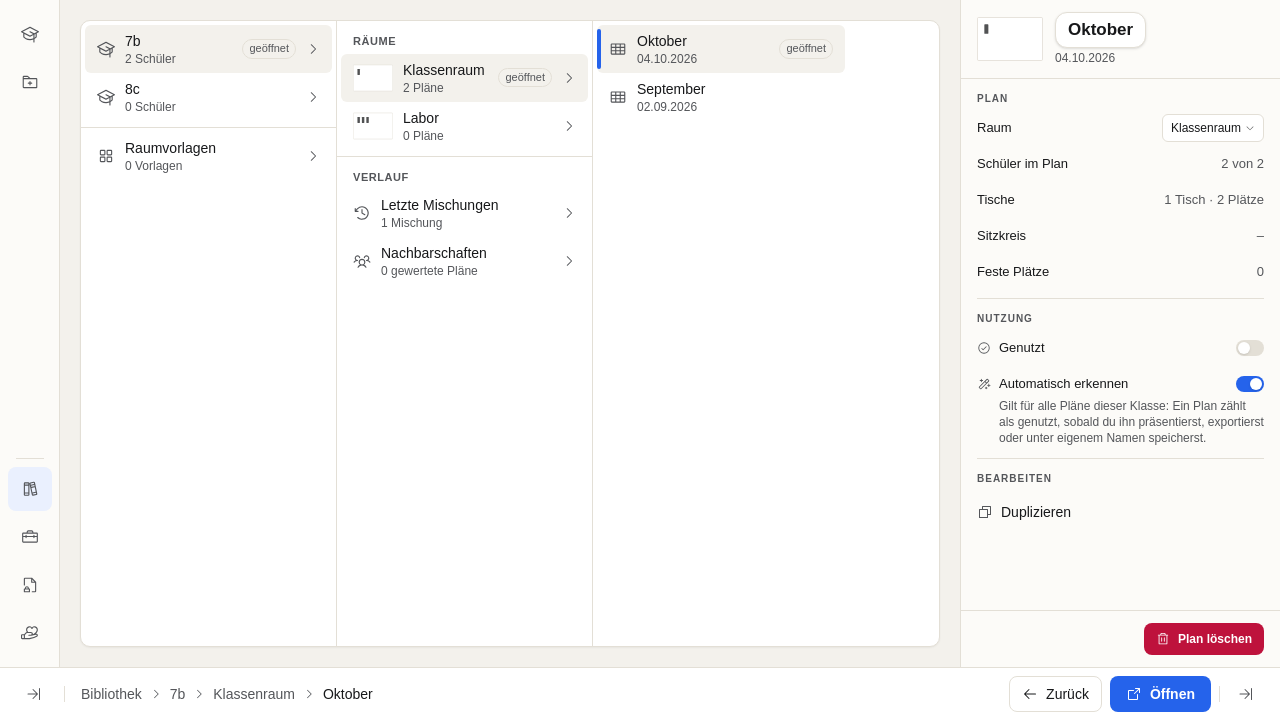
Test: PlanLibrary › goes up the path from the status bar
The image size is (1280, 720).
Step 1. Click the button "7b" → (178, 694), box [166,684,189,704]
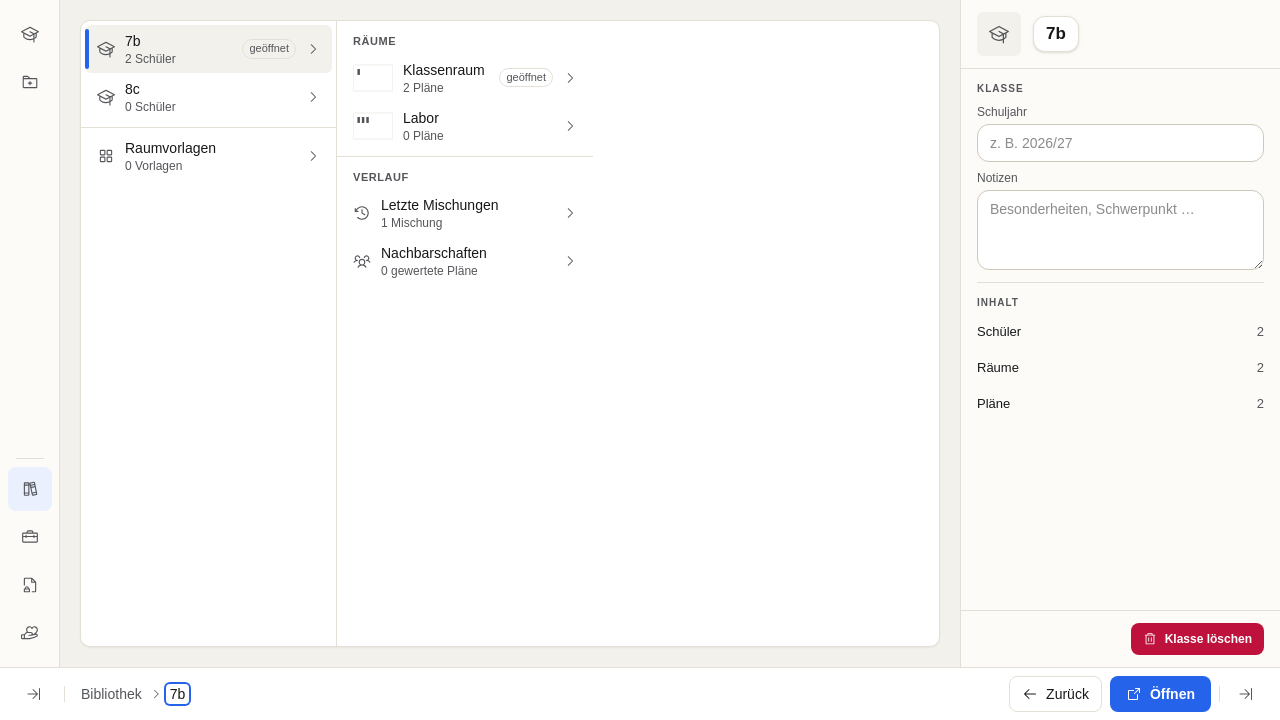
Check: the heading "7b" is shown, box [1033,16,1079,52]
